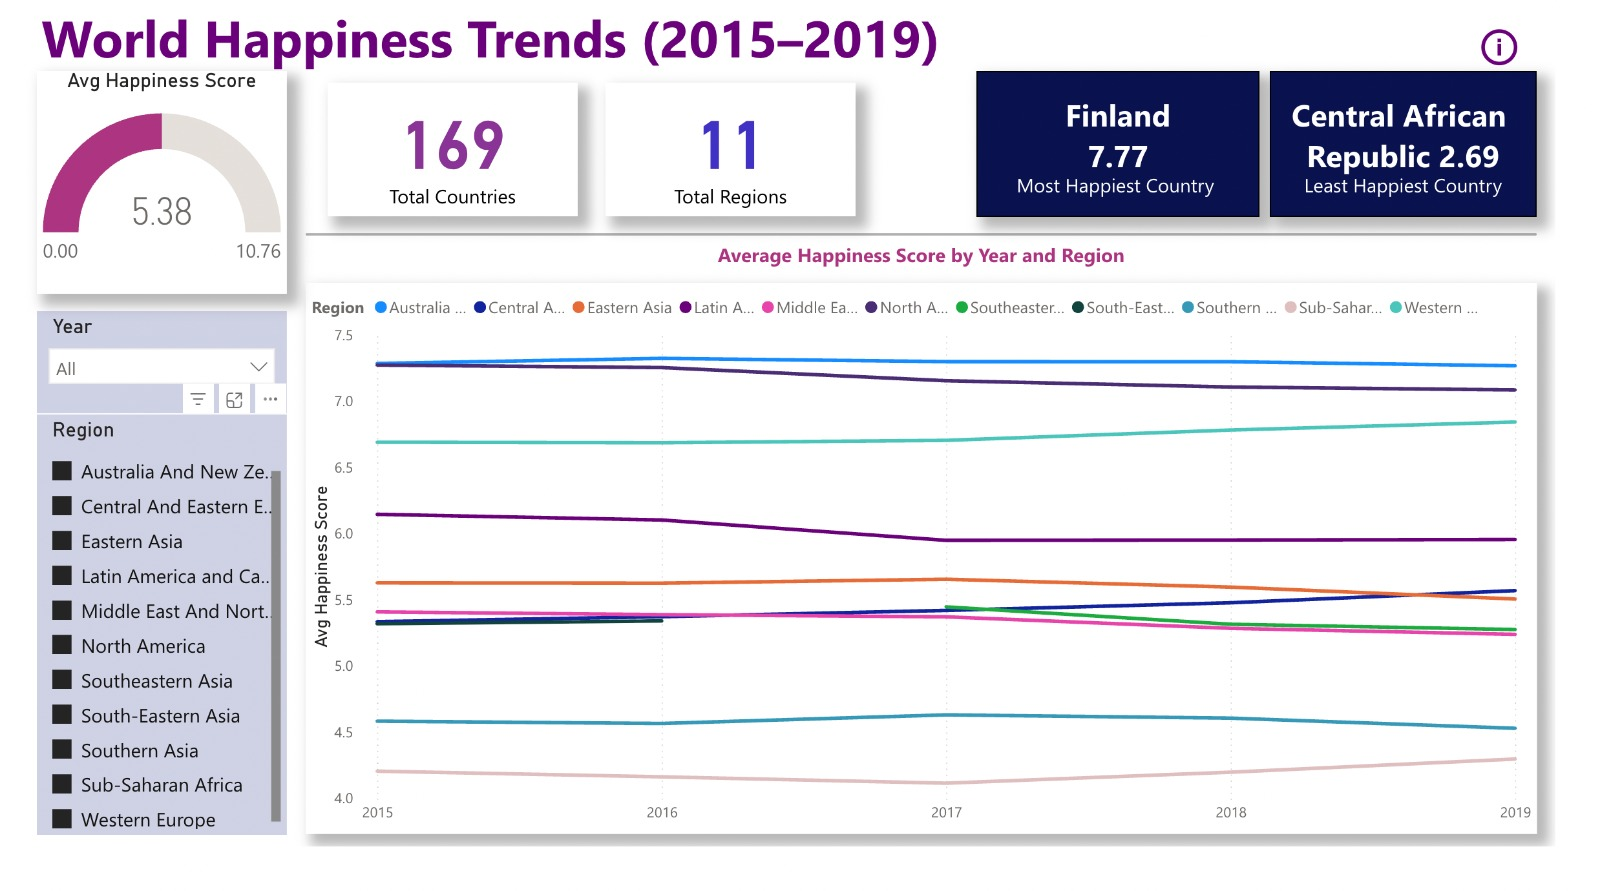

This screenshot's page, from the dashboard's own definition file:
{"tool":"powerbi","page":{"name":"Trends & Overview","canvas":[1280,720],"ordinal":0},"visuals":[{"type":"textbox","box":[15.3,12.2,1198.3,76.6],"z":0},{"type":"slicer","fields":{"Values":["Master_Data.Year"]},"box":[16.6,256.2,207.9,74.9],"z":1000},{"type":"slicer","fields":{"Values":["Master_Data.Region"]},"box":[16.6,331,207.9,378.4],"z":2000},{"type":"card","fields":{"Values":["Master_Data.Total Countries"]},"box":[258.3,84,208.1,111.6],"z":3000},{"type":"card","fields":{"Values":["Master_Data.Total Regions"]},"box":[488.9,84,208.1,111.6],"z":4000},{"type":"lineChart","fields":{"Category":["Master_Data.Year"],"Y":["Master_Data.Avg Happiness Score"],"Series":["Master_Data.Region"]},"box":[239.5,250.7,1024.3,458.8],"z":5000},{"type":"gauge","fields":{"Y":["Master_Data.Avg Happiness Score"]},"box":[16.6,74,207.9,169.7],"z":6000},{"type":"card","fields":{"Values":["Master_Data.Most Happiest Country"]},"box":[797.3,74,235.7,121.6],"z":7000},{"type":"card","fields":{"Values":["Master_Data.Least Happiest Country"]},"box":[1041.8,74,221.9,121.6],"z":8000},{"type":"textbox","box":[239.5,210.6,1024.3,40.1],"z":9000},{"type":"shape","box":[239.5,199.3,1024.3,22.6],"z":10000},{"type":"actionButton","box":[1213.3,33.9,66.7,40],"z":11000}]}

Visuals, with their boxes in screenshot pixels (x1, y1, x2, y2), scaled from the page's 1280x720 canvas onto the 1600x891 screenshot:
textbox: box(19, 15, 1517, 110)
slicer - Master_Data.Year: box(21, 317, 281, 410)
slicer - Master_Data.Region: box(21, 410, 281, 878)
card - Master_Data.Total Countries: box(323, 104, 583, 242)
card - Master_Data.Total Regions: box(611, 104, 871, 242)
lineChart - Master_Data.Year x Master_Data.Avg Happiness Score: box(299, 310, 1580, 878)
gauge - Master_Data.Avg Happiness Score: box(21, 92, 281, 302)
card - Master_Data.Most Happiest Country: box(997, 92, 1291, 242)
card - Master_Data.Least Happiest Country: box(1302, 92, 1580, 242)
textbox: box(299, 261, 1580, 310)
shape: box(299, 247, 1580, 275)
actionButton: box(1517, 42, 1599, 91)
